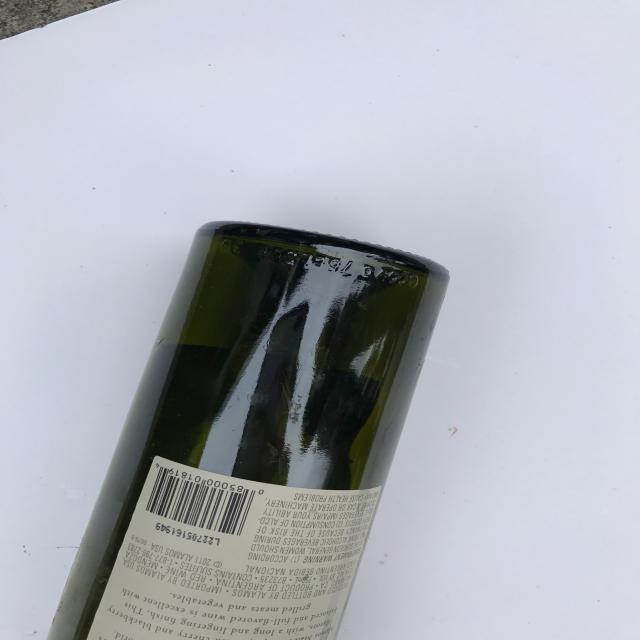Glass: (28, 205, 460, 640)
